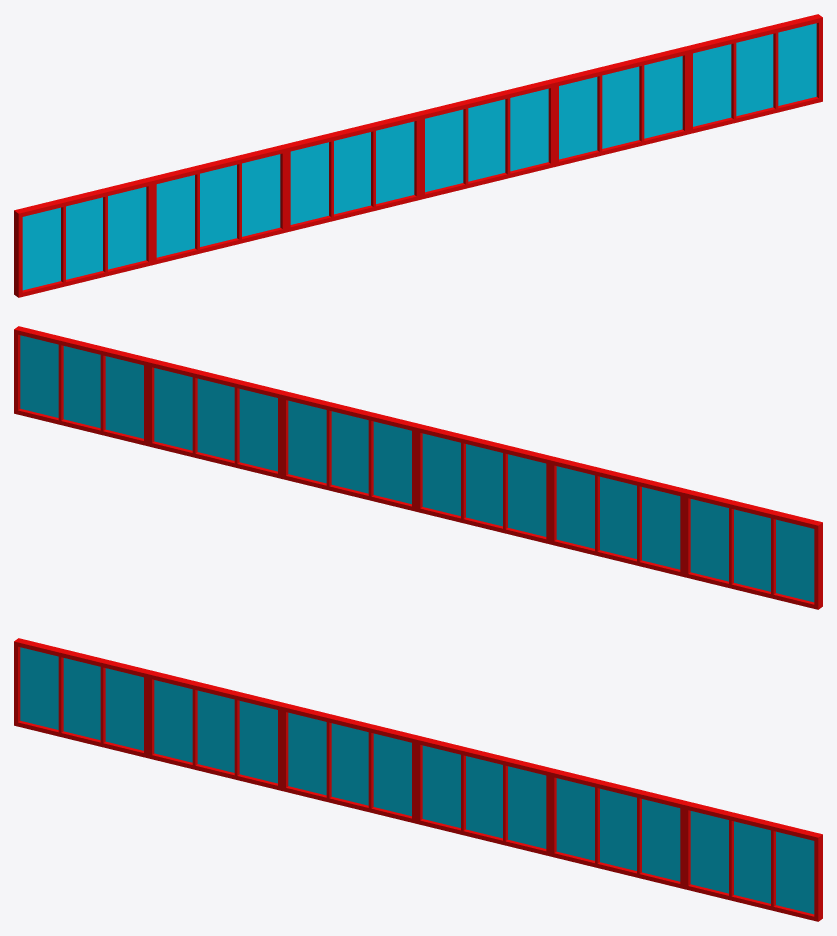
File: SM_WindowPlate.fbx
3 views of the same model, one above another, from view 1: azimuth 30°, elevation 25°; view 2: azimuth 150°, elevation 25°; view 3: azimuth 330°, elevation 25° (orthographic).
Parts seen in each view (by area): view 1: Box001; view 2: Box001; view 3: Box001.
Part boxes in pixels (<box>): Box001: <box>14,14,822,297</box>; Box001: <box>14,326,822,609</box>; Box001: <box>14,638,822,921</box>.
Size of the model in its own units: 3000 by 300 by 30.
